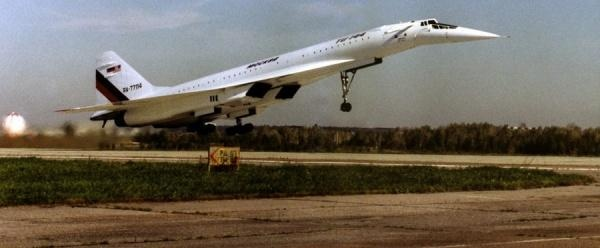airplane: (53, 20, 517, 137)
